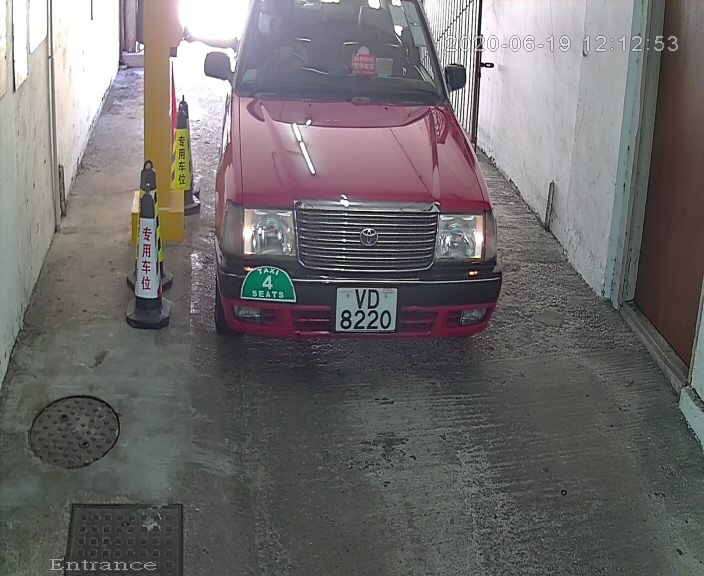taxi: (197, 2, 504, 374)
taxi_mark: (236, 258, 302, 309)
